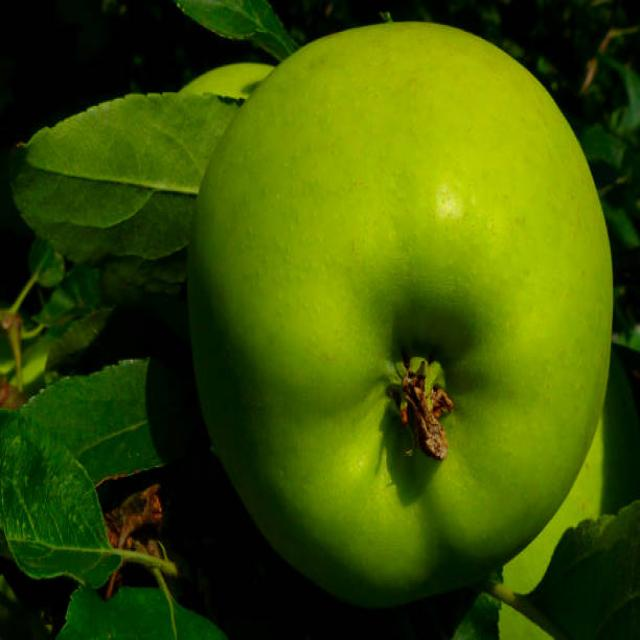Unripe: (183, 20, 616, 606)
